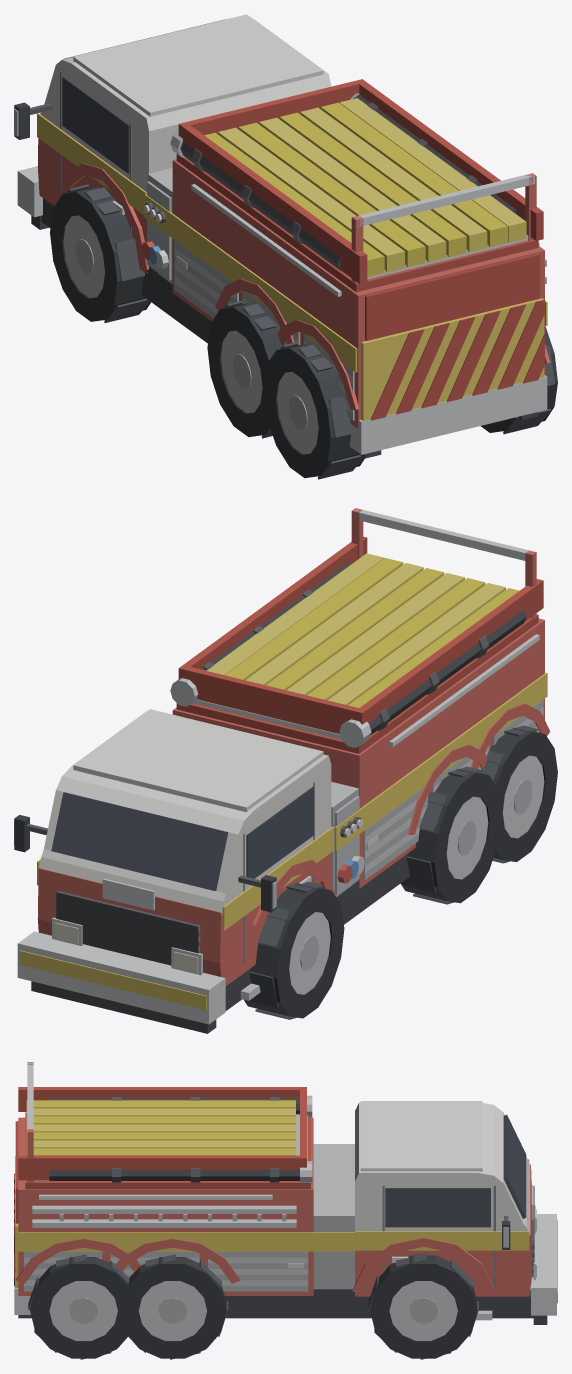
The model's file is pumper-v1.glb.
3 renders of one model, top to bottom at view 1: azimuth 30°, elevation 25°; view 2: azimuth 150°, elevation 25°; view 3: azimuth 270°, elevation 25°, orthographic. The views are drawn at different scales.
Parts seen in each view (by area): view 1: Body, Axle_Rear, Axle_Front, Axle_Mid; view 2: Body, Axle_Front, Axle_Mid, Axle_Rear; view 3: Body, Axle_Front, Axle_Mid, Axle_Rear.
Part boxes in pixels (x1,y1,x2,y2): Body: [14, 14, 550, 458]; Axle_Rear: [265, 325, 557, 479]; Axle_Front: [50, 184, 150, 322]; Axle_Mid: [207, 300, 283, 438]; Body: [14, 508, 550, 1033]; Axle_Front: [244, 881, 344, 1019]; Axle_Mid: [400, 766, 500, 904]; Axle_Rear: [480, 725, 557, 863]; Body: [14, 1062, 557, 1324]; Axle_Front: [368, 1252, 478, 1359]; Axle_Mid: [119, 1254, 228, 1359]; Axle_Rear: [28, 1254, 136, 1359].
Bounding box in the file's own units: 3.47 × 3.53 × 7.92.
